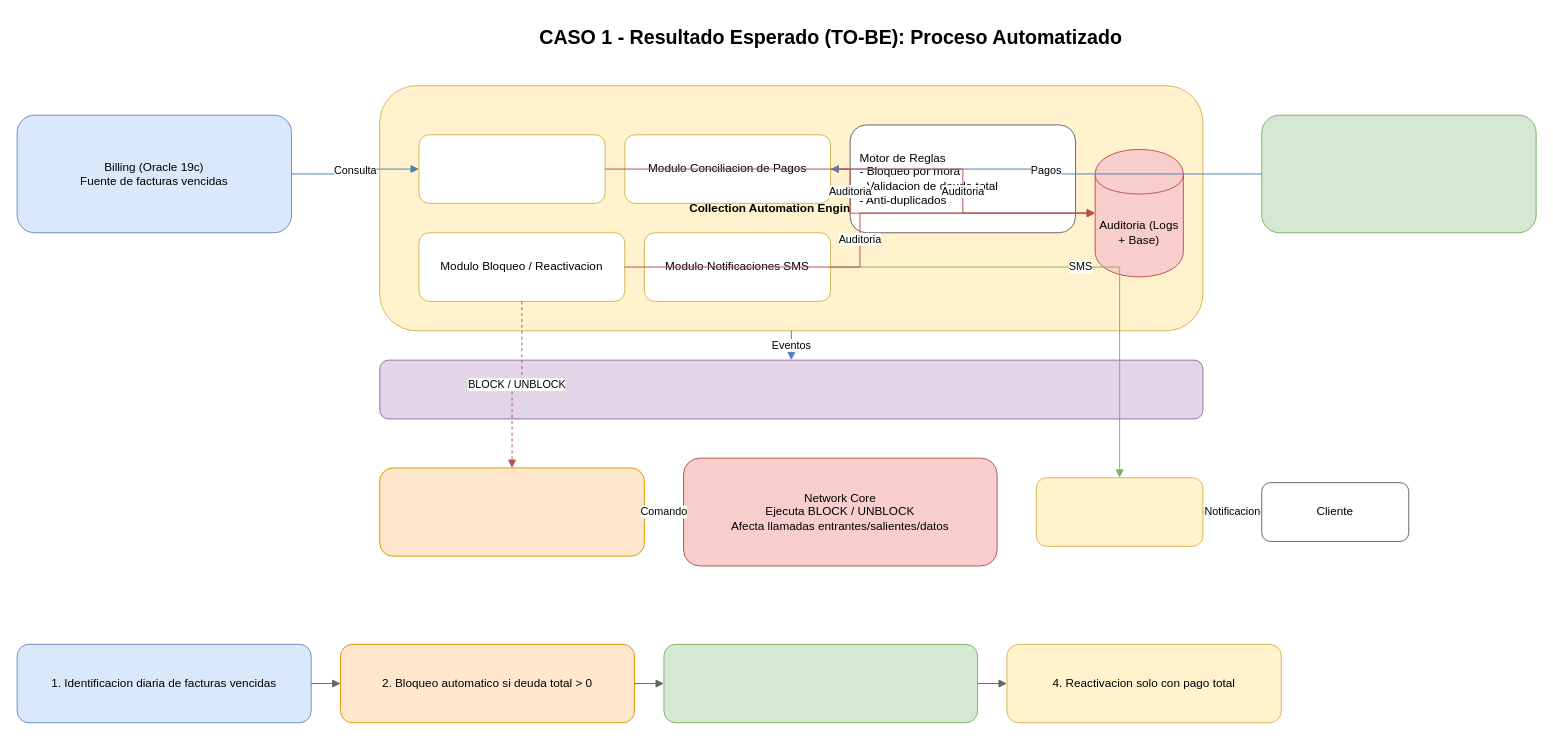
The diagram is 1553 pixels wide and 740 high, and some of its shapes have lost their labels. Here are the shapes that lost their labels. From the top down, the box of each, then its label:
(418, 134, 605, 203): Modulo Facturas Vencidas
(1261, 114, 1536, 233): Caja/AS400 DB2 Fuente de pagos
(379, 359, 1203, 419): Message Broker (cola de eventos)
(379, 467, 644, 556): Sistema Legado Interno Interfaz de comandos
(1035, 477, 1203, 546): SMS Center API
(663, 643, 978, 723): 3. Conciliacion periodica de pagos (30-60 min)
